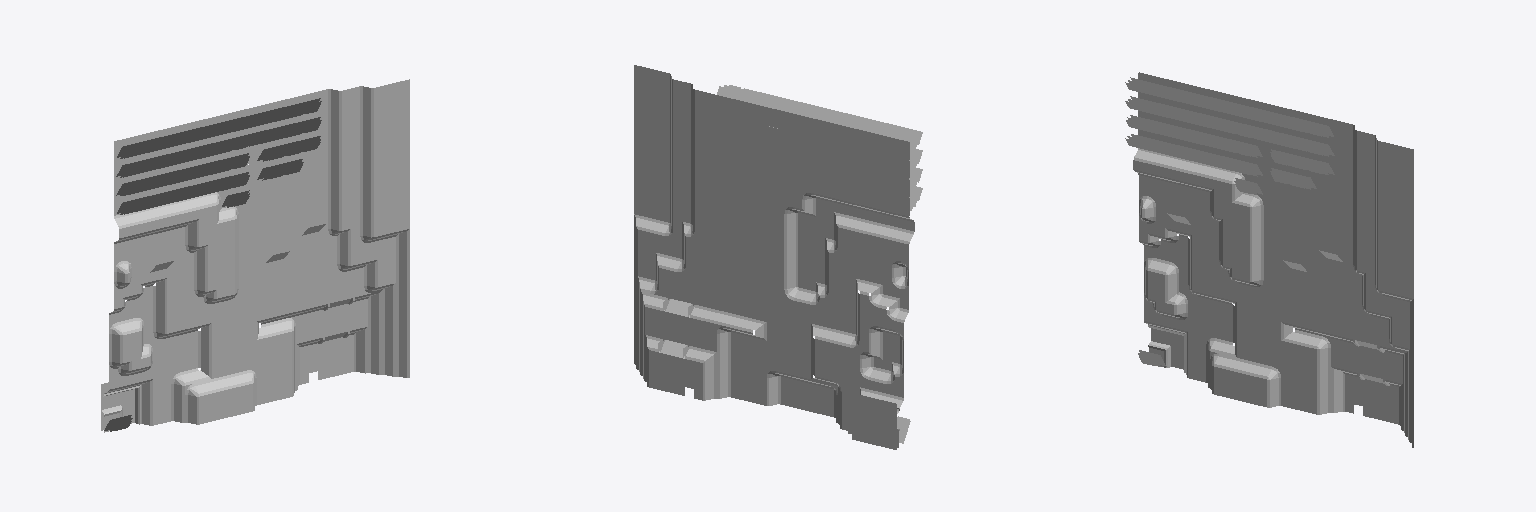
The model's file is Plat_full_05_12.obj.
3 renders of one model, left to right at view 1: azimuth 30°, elevation 25°; view 2: azimuth 150°, elevation 25°; view 3: azimuth 330°, elevation 25°, orthographic.
Visible parts, largest first — view 1: map; view 2: map; view 3: map.
Boxes of the visible parts, box(x1,y1,x2,y2) form: map: box(101, 79, 409, 432); map: box(634, 65, 922, 449); map: box(1125, 72, 1413, 447).
Size of the model in its own units: 32.25 by 32.12 by 5.14.